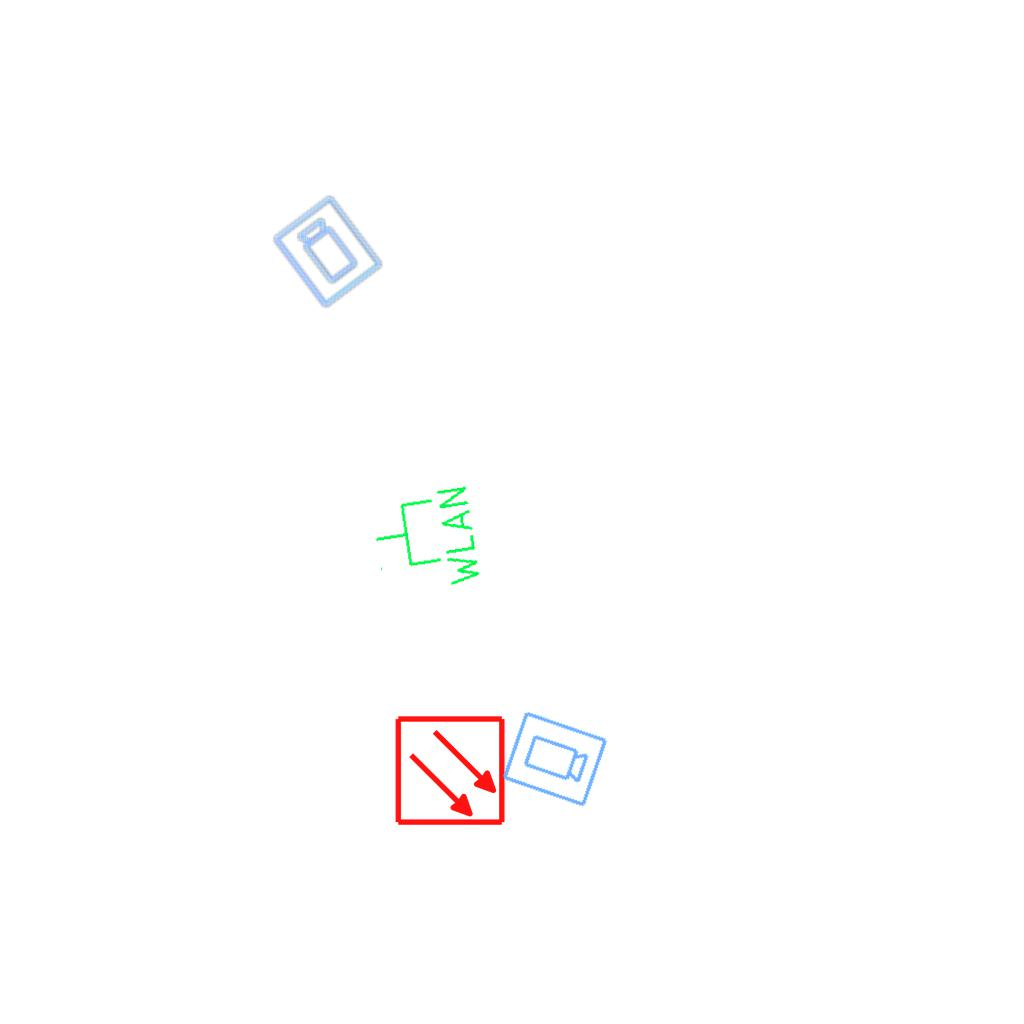KFO_Kamera_mit_Festobjektiv: (270, 191, 387, 312), (498, 708, 611, 811)
RMO_Rauchmelder_optischer: (394, 714, 507, 827)
WLAN: (366, 481, 486, 602)
